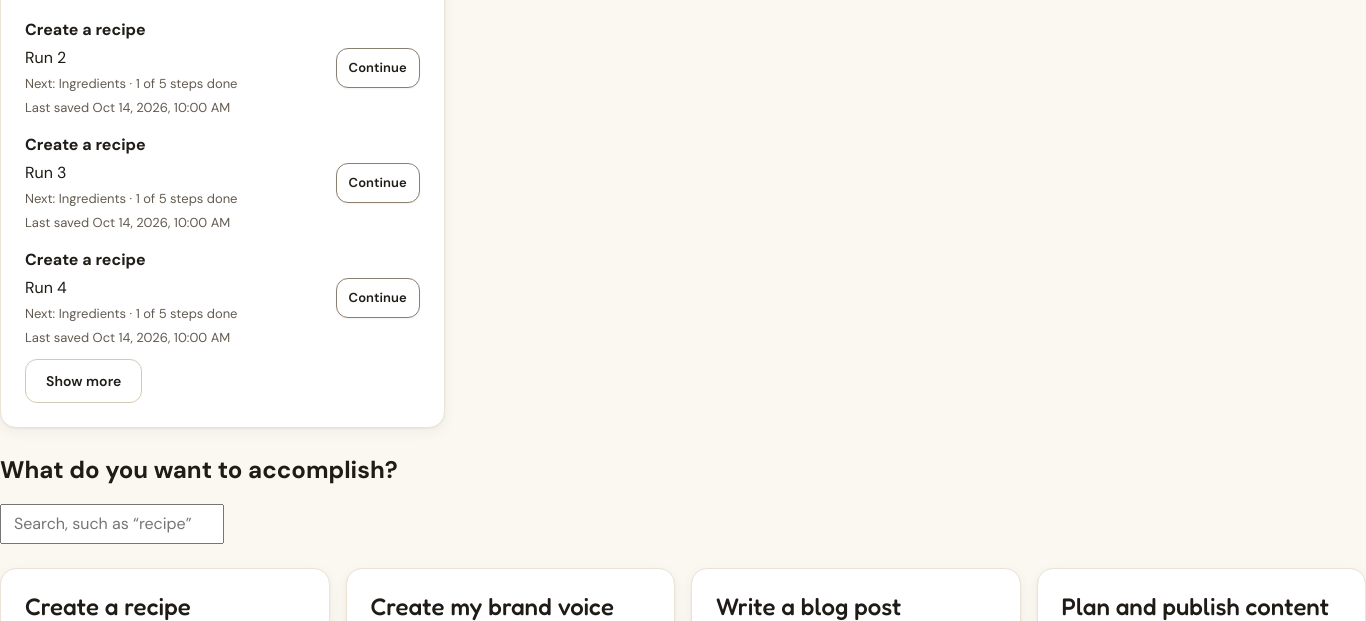
Scenario: WorkflowsHubComponent › returning › says when the next page could not be read, and reads it again on asking
The width and height of the screenshot is (1366, 621).
(page scrolled)
Click the button "Show more".
click(84, 381)  # box [25,359,142,403]
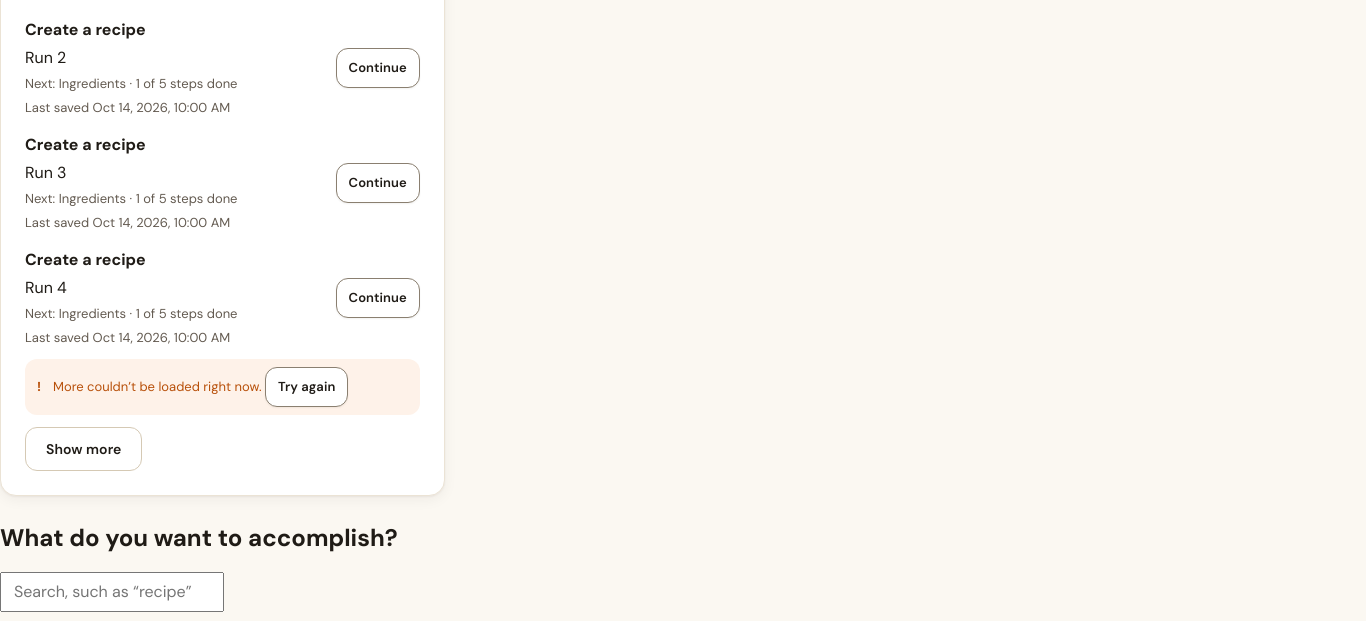
Now the element that starts with "Continue where you left off" shows "More couldn’t be loaded right now.", box [53,378,265,395]
Click the button "Try again".
click(307, 387)  # box [265,367,348,407]
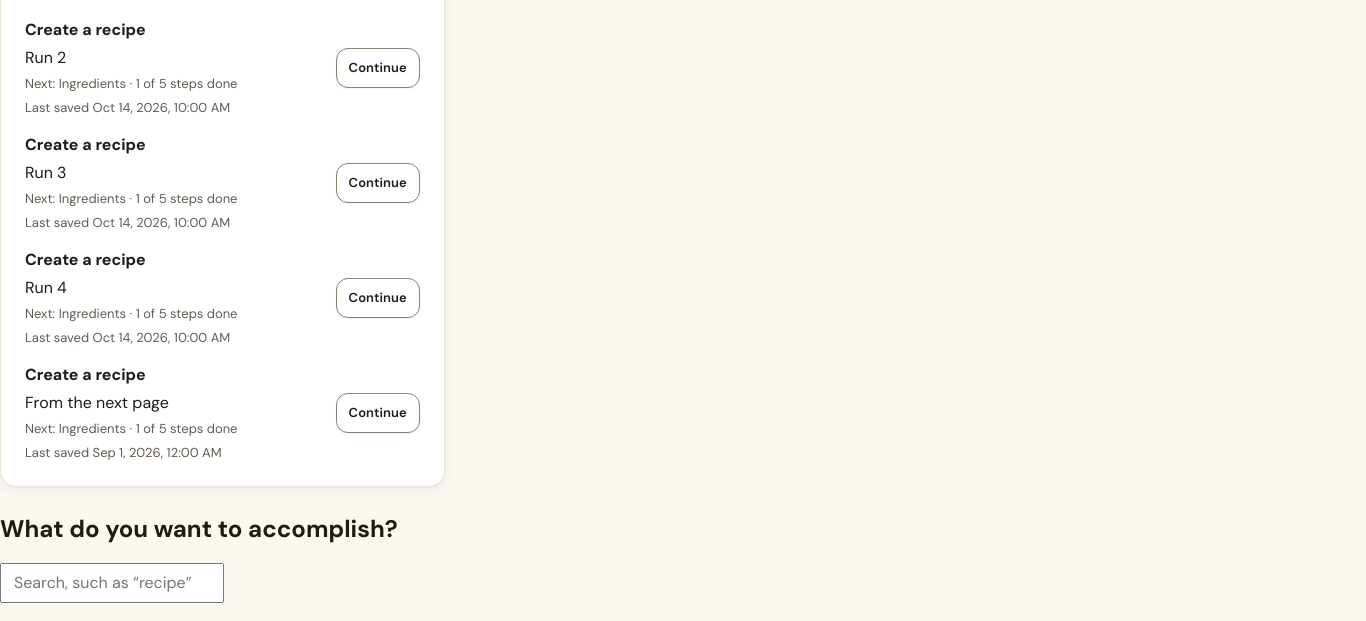
Now the text "More couldn’t be loaded" is gone
